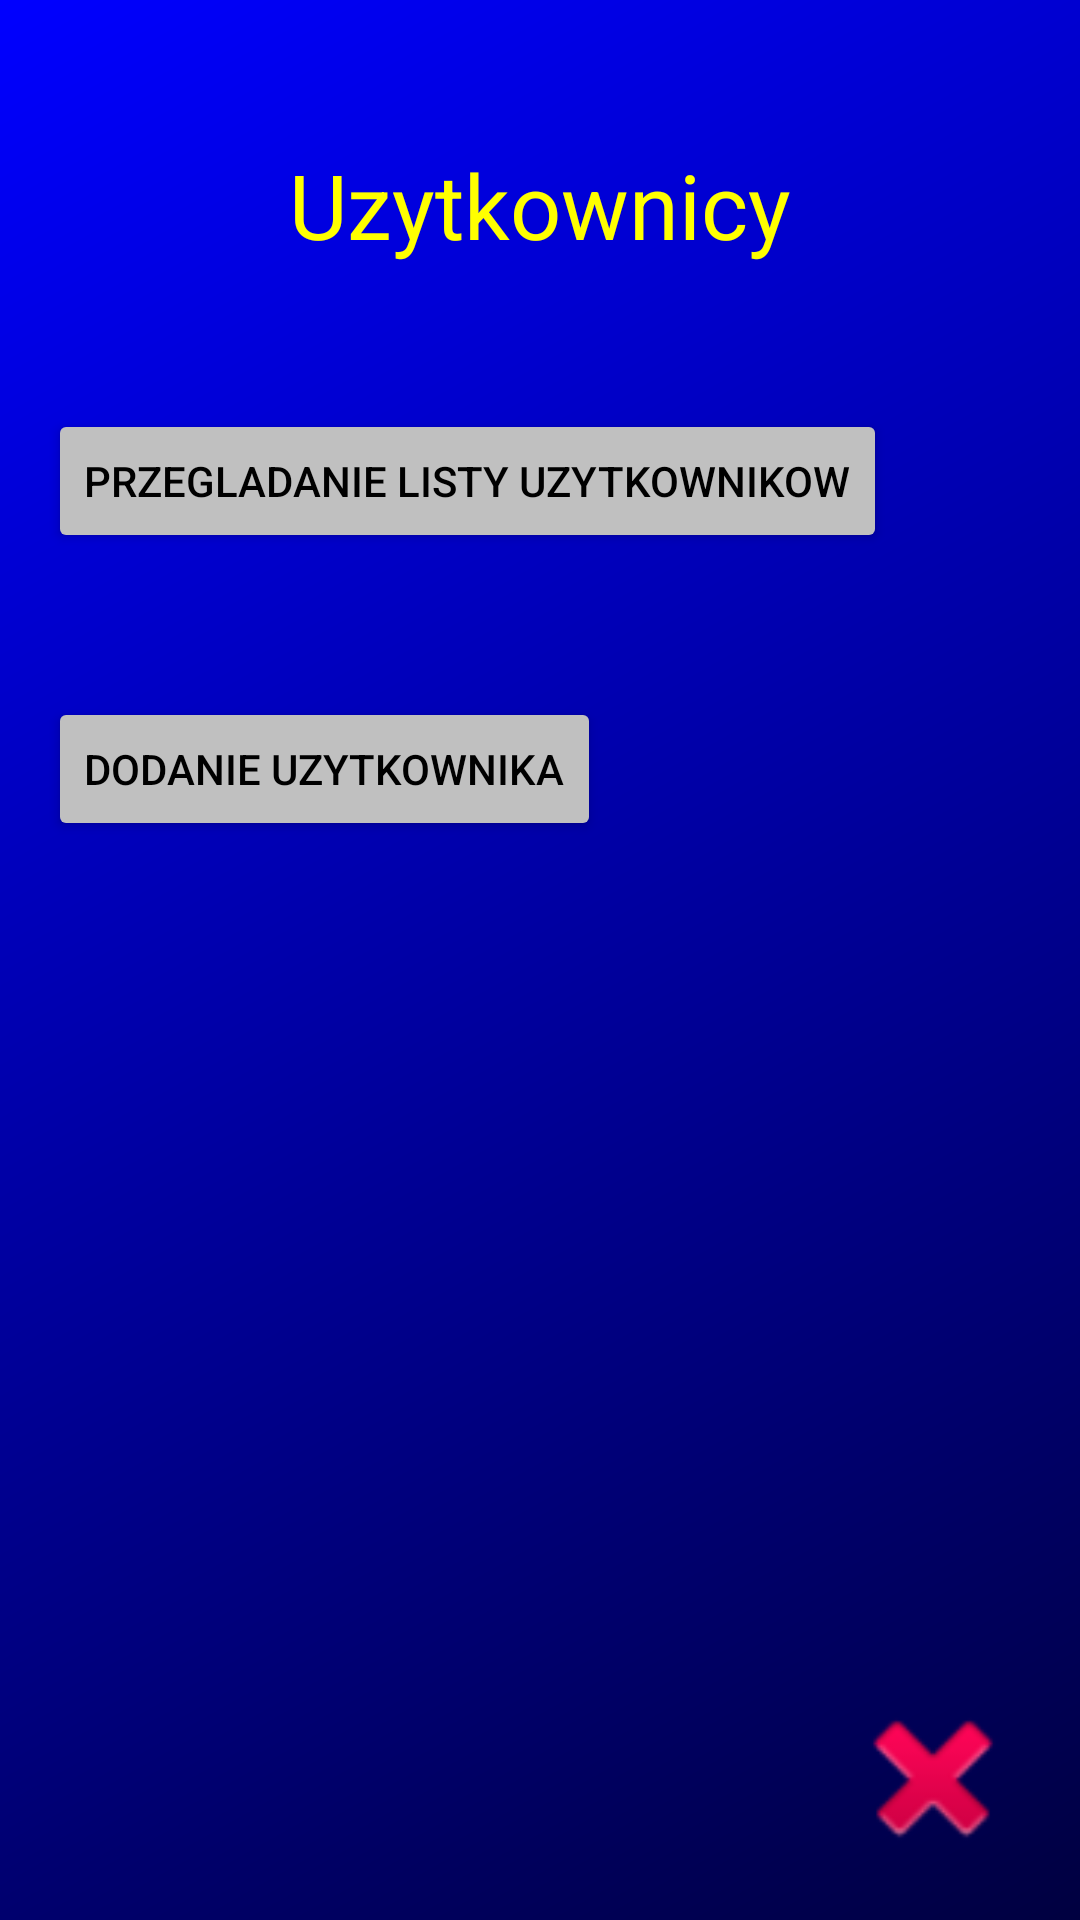

Icons on this 1080w x 1920h Android screen, each with its box as (x1, y1, x2, y2):
delete: (873, 1720, 993, 1837)
